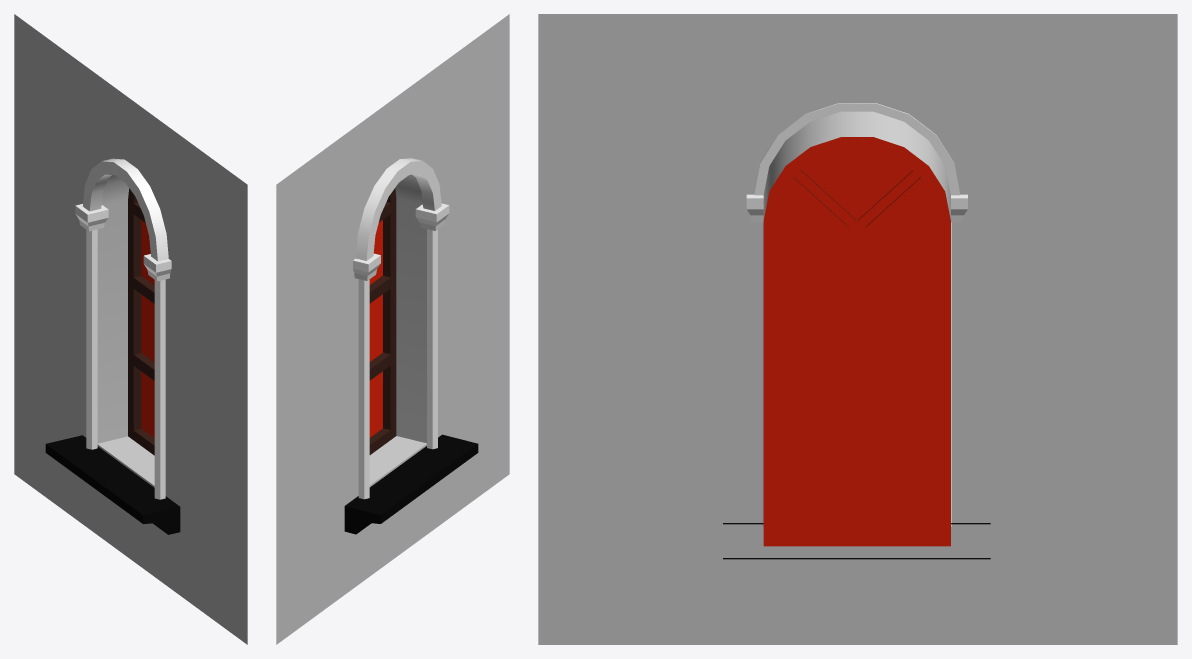
Rendered from standard_window_7.FBX.
3 renders of one model, left to right at view 1: azimuth 30°, elevation 25°; view 2: azimuth 150°, elevation 25°; view 3: azimuth 270°, elevation 25°, orthographic. The views are drawn at different scales.
Visible parts, largest first — view 1: standard_window_7; view 2: standard_window_7; view 3: standard_window_7.
Boxes of the visible parts, <box> form: standard_window_7: <box>14,14,247,644</box>; standard_window_7: <box>276,14,509,644</box>; standard_window_7: <box>538,14,1177,644</box>.
Size of the model in its own units: 59 by 341 by 313.
